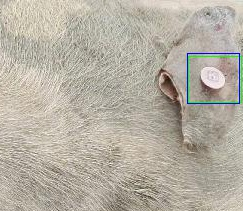text: (188, 56, 241, 102)
